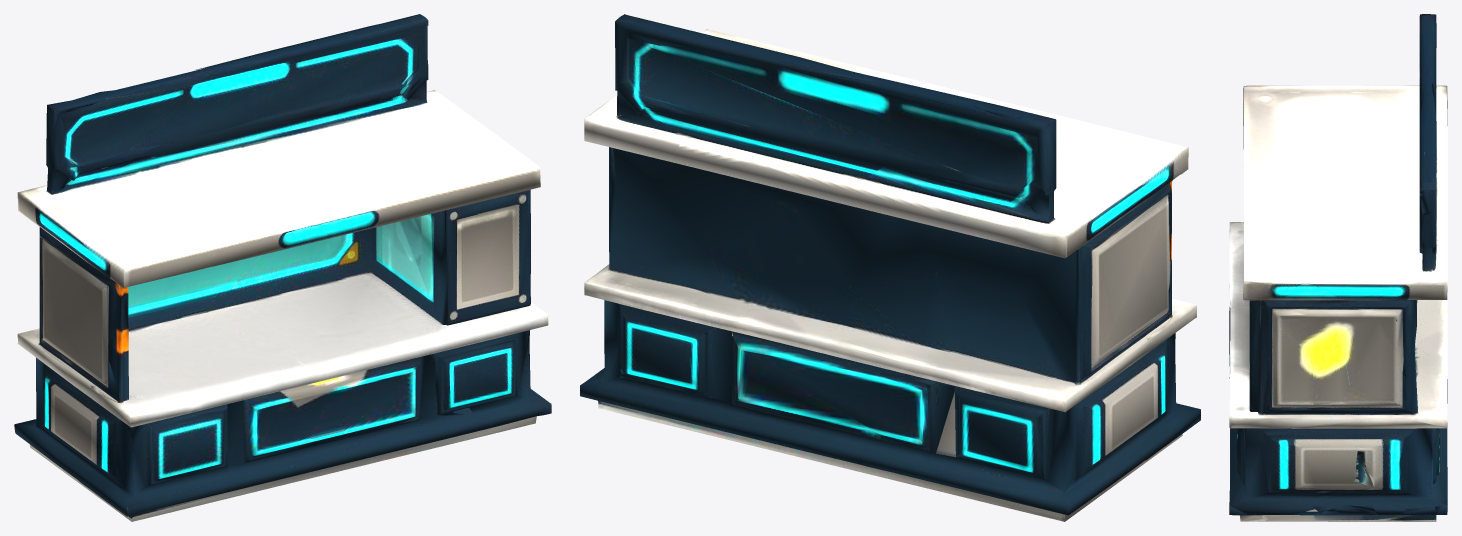
The model's file is vendor_service_kiosk.glb.
3 renders of one model, left to right at view 1: azimuth 30°, elevation 25°; view 2: azimuth 150°, elevation 25°; view 3: azimuth 270°, elevation 25°, orthographic. The views are drawn at different scales.
Bounding box in the file's own units: 1.9 × 1.45 × 0.8794.
1 material, 1 textured.
